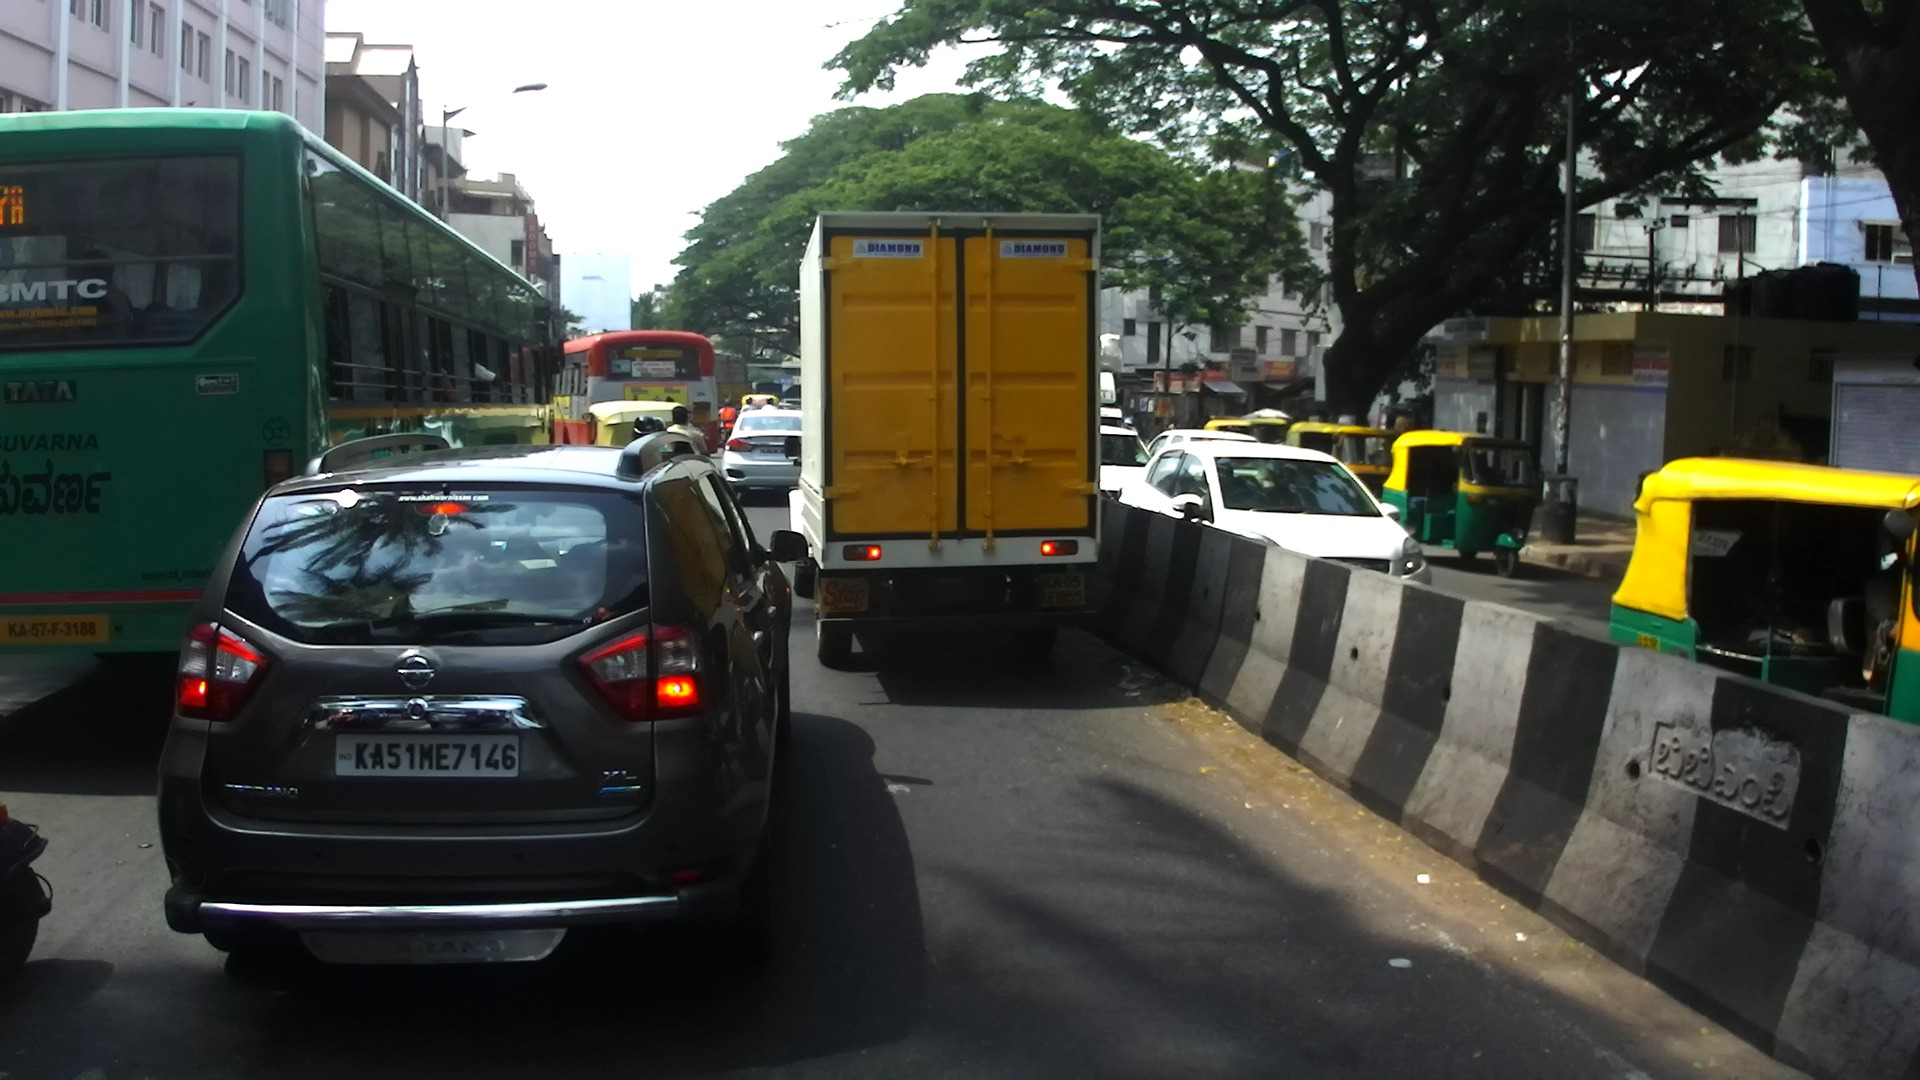autorickshaw: (1609, 458, 1920, 757), (1382, 428, 1541, 577), (1284, 420, 1397, 506), (581, 400, 687, 473), (1206, 417, 1293, 450), (740, 395, 780, 412)
bus: (1, 107, 567, 673), (544, 330, 716, 465)
car: (162, 426, 811, 998), (1117, 439, 1431, 596), (721, 408, 810, 497), (1095, 425, 1153, 496), (1144, 428, 1260, 463), (778, 397, 803, 408)
motorcycle: (1, 806, 54, 1001), (720, 427, 733, 451)
person: (1147, 412, 1165, 442), (1129, 413, 1144, 443), (1168, 416, 1182, 430)
rider: (667, 405, 712, 459), (716, 398, 738, 433), (630, 415, 656, 446), (739, 397, 759, 415), (651, 418, 666, 435), (761, 397, 776, 410)
truck: (784, 211, 1105, 670), (717, 351, 752, 419), (1091, 371, 1131, 425), (755, 381, 781, 403)
vehicle fallback: (783, 385, 802, 401)
